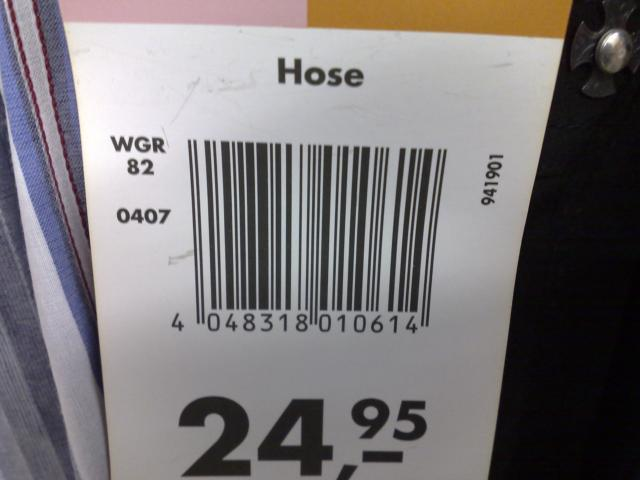Barcode: (165, 136, 457, 347)
